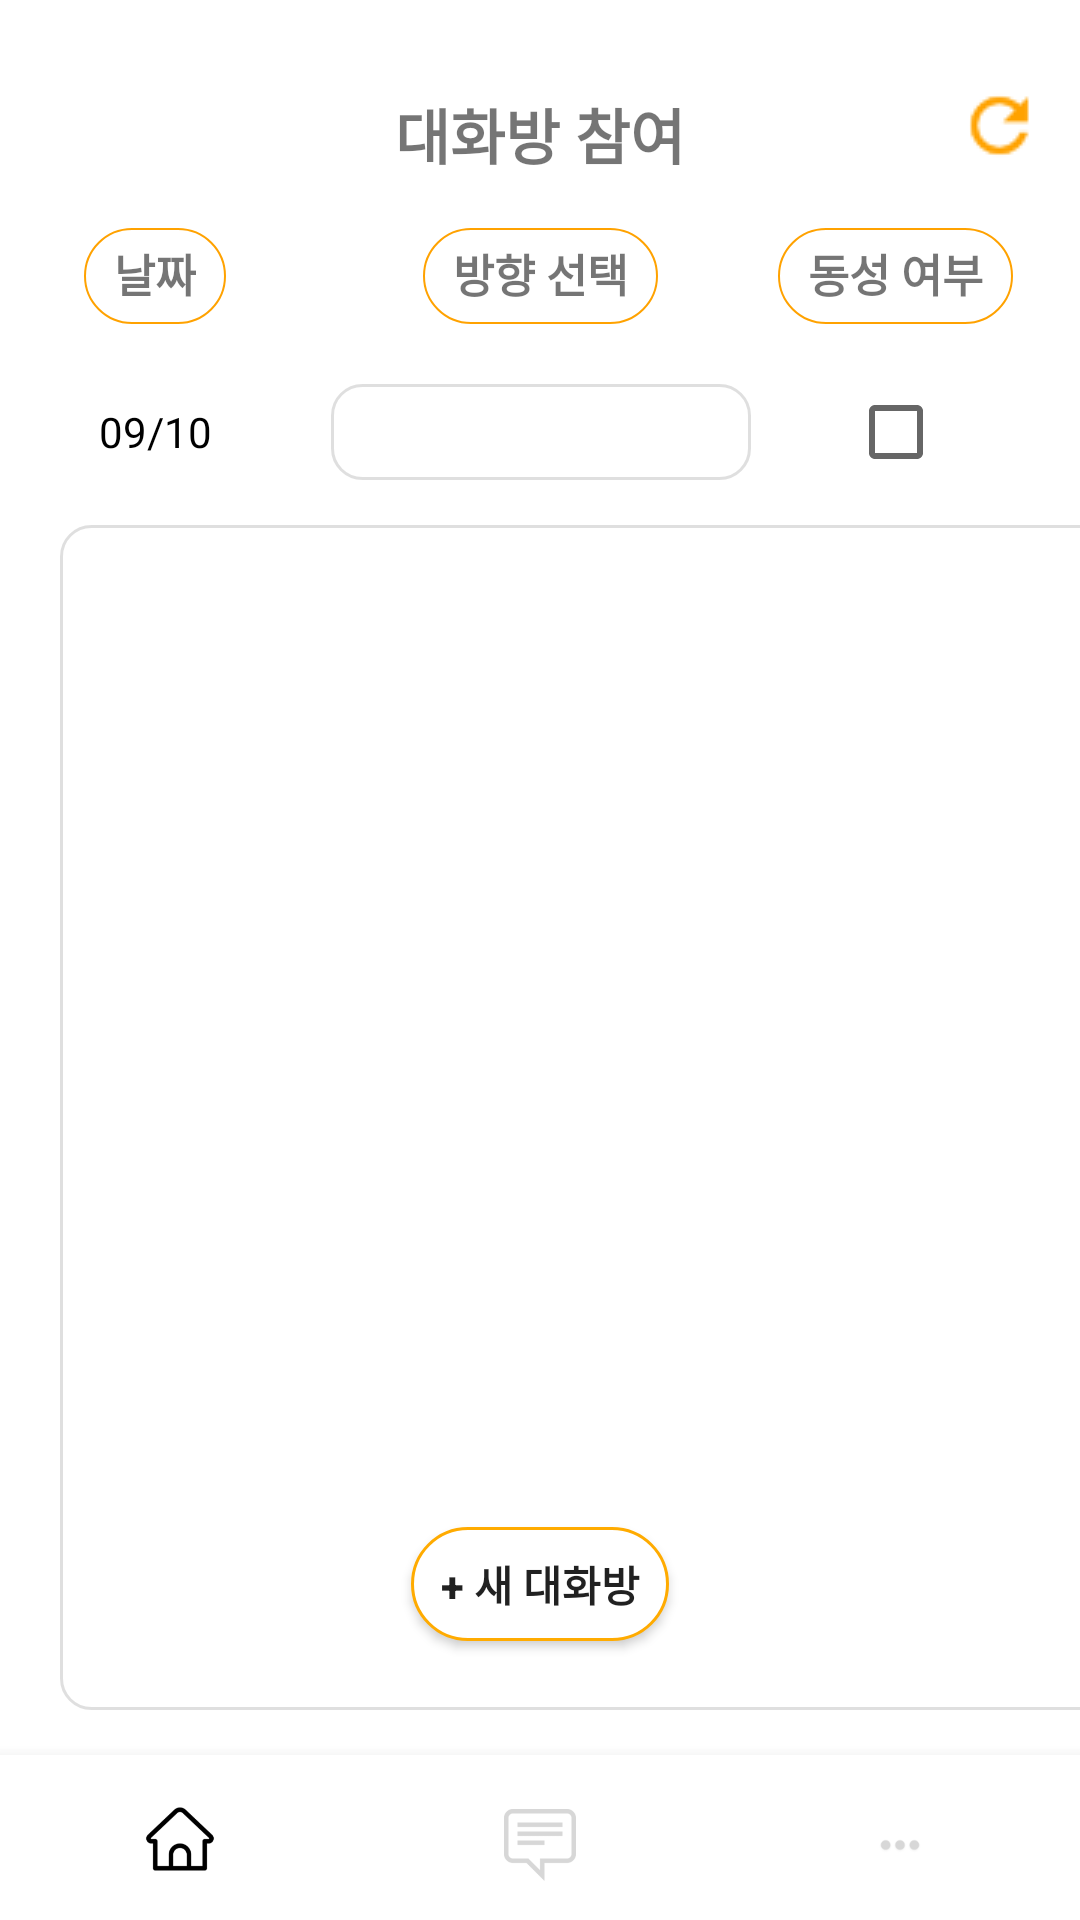

Point at icon controls on the screen. Image size 1080 x 1920, points as (x,y).
refresh: (999,125)
